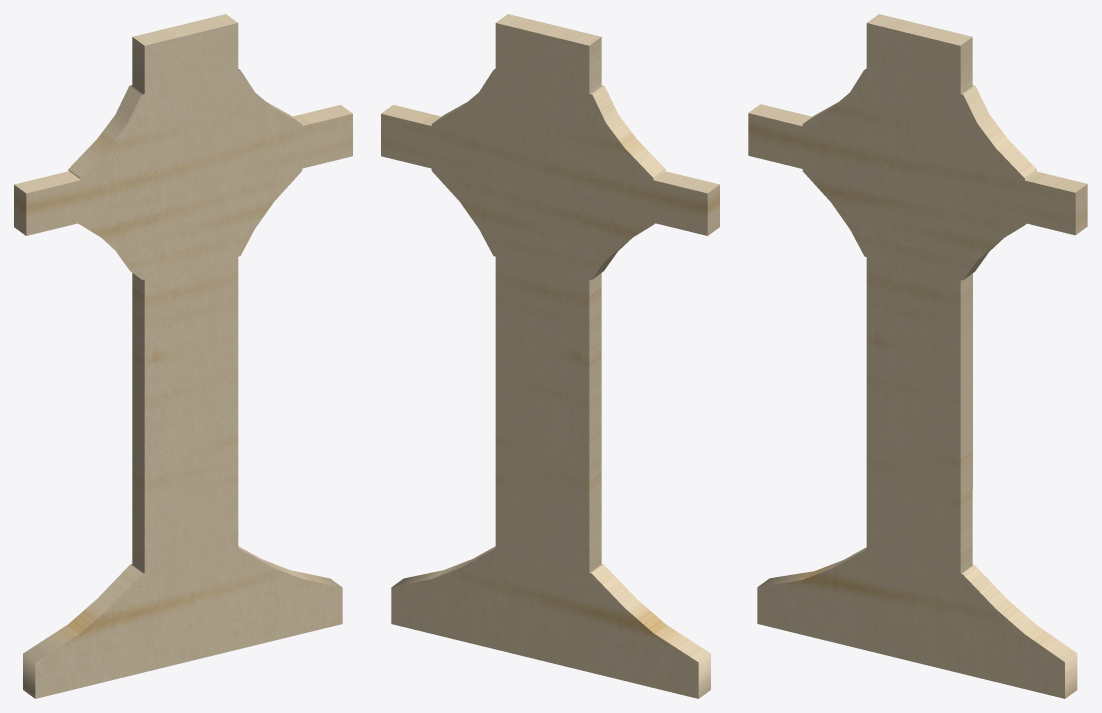
Rendered from Adventurer Cross.fbx.
The picture shows the model from 3 angles, left to right: view 1: azimuth 30°, elevation 25°; view 2: azimuth 150°, elevation 25°; view 3: azimuth 330°, elevation 25°; orthographic projection.
Visible parts, largest first — view 1: Adventurer_Cross; view 2: Adventurer_Cross; view 3: Adventurer_Cross.
Part boxes in pixels (x1=…): Adventurer_Cross: x1=14, y1=14, x2=352, y2=698; Adventurer_Cross: x1=381, y1=14, x2=719, y2=698; Adventurer_Cross: x1=748, y1=14, x2=1087, y2=698.
Size of the model in its own units: 27.83 by 50.99 by 1.81.
